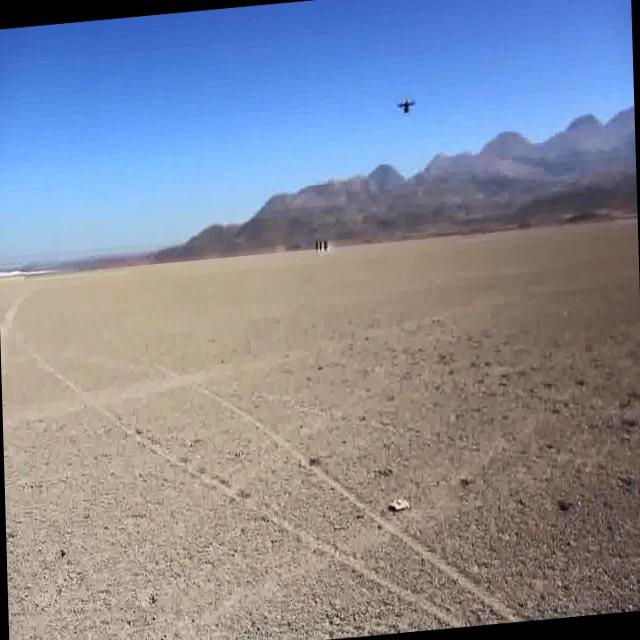drone: (394, 93, 418, 122)
